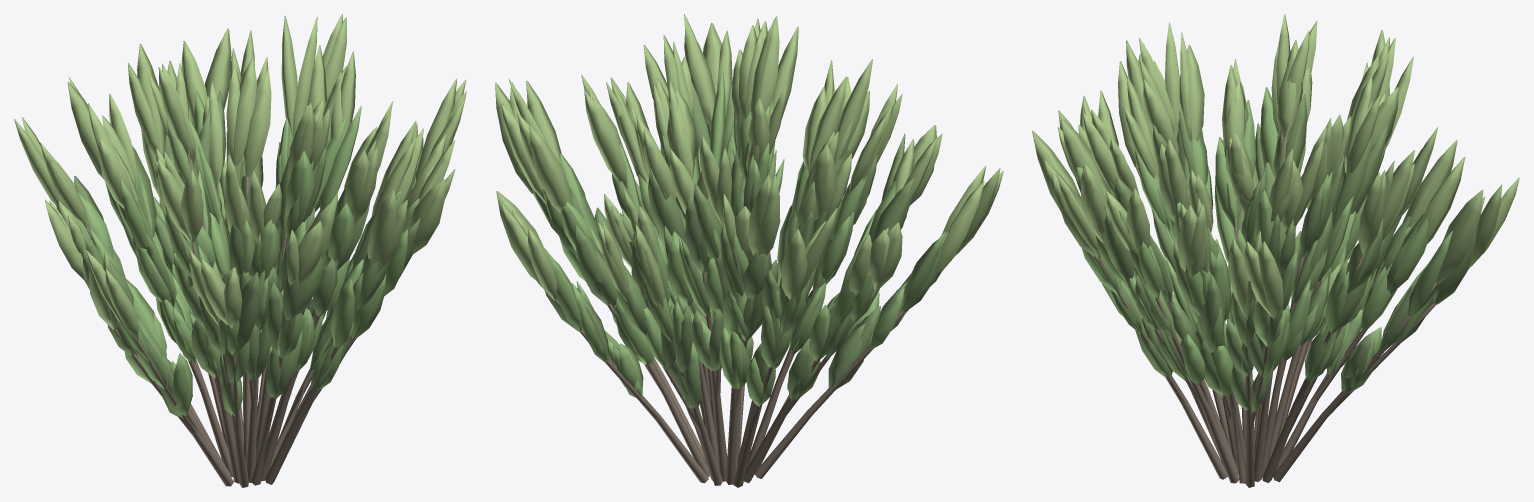
The model's file is chirca_bush_3.glb.
The picture shows the model from 3 angles, left to right: view 1: azimuth 30°, elevation 25°; view 2: azimuth 150°, elevation 25°; view 3: azimuth 270°, elevation 25°; orthographic projection. The views are drawn at different scales.
Parts seen in each view (by area): view 1: ChircaFoliageTip, ChircaFoliageMid, ChircaFoliageDeep, ChircaStems; view 2: ChircaFoliageTip, ChircaFoliageDeep, ChircaFoliageMid, ChircaStems; view 3: ChircaFoliageTip, ChircaFoliageDeep, ChircaFoliageMid, ChircaStems.
Part boxes in pixels (left/top/right/bottom): ChircaFoliageTip: left=14, top=14, right=466, bottom=340; ChircaFoliageMid: left=56, top=90, right=419, bottom=418; ChircaFoliageDeep: left=55, top=90, right=423, bottom=417; ChircaStems: left=84, top=154, right=356, bottom=487; ChircaFoliageTip: left=495, top=14, right=1003, bottom=308; ChircaFoliageDeep: left=532, top=80, right=947, bottom=408; ChircaFoliageMid: left=540, top=71, right=944, bottom=408; ChircaStems: left=533, top=189, right=955, bottom=487; ChircaFoliageTip: left=1032, top=14, right=1519, bottom=318; ChircaFoliageDeep: left=1076, top=94, right=1476, bottom=412; ChircaFoliageMid: left=1076, top=87, right=1452, bottom=412; ChircaStems: left=1099, top=130, right=1470, bottom=487.
Size of the model in its own units: 2.2 by 1.98 by 2.07.
